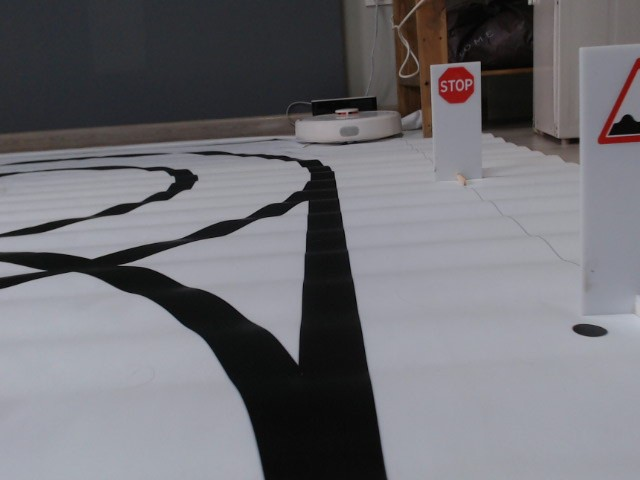Stop: (438, 66, 474, 105)
